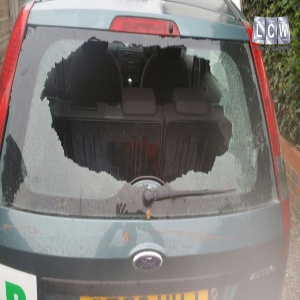rear_windshield_glass: (32, 37, 257, 199)
